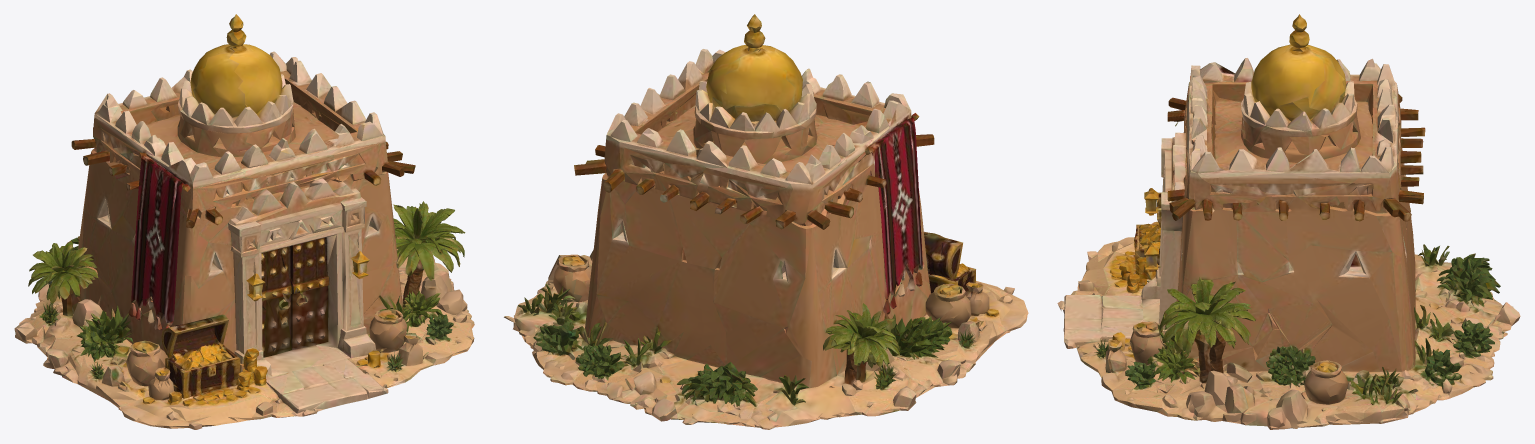
Rendered from goldstore.glb.
3 renders of one model, left to right at view 1: azimuth 30°, elevation 25°; view 2: azimuth 150°, elevation 25°; view 3: azimuth 270°, elevation 25°, orthographic. The views are drawn at different scales.
Visible parts, largest first — view 1: goldstore; view 2: goldstore; view 3: goldstore.
Part boxes in pixels (x1,y1,x2,y2): goldstore: [14, 14, 474, 429]; goldstore: [504, 14, 1028, 429]; goldstore: [1057, 14, 1520, 429].
Size of the model in its own units: 1.9 by 1.41 by 1.88.
Materials: 1 (1 with a texture image).
